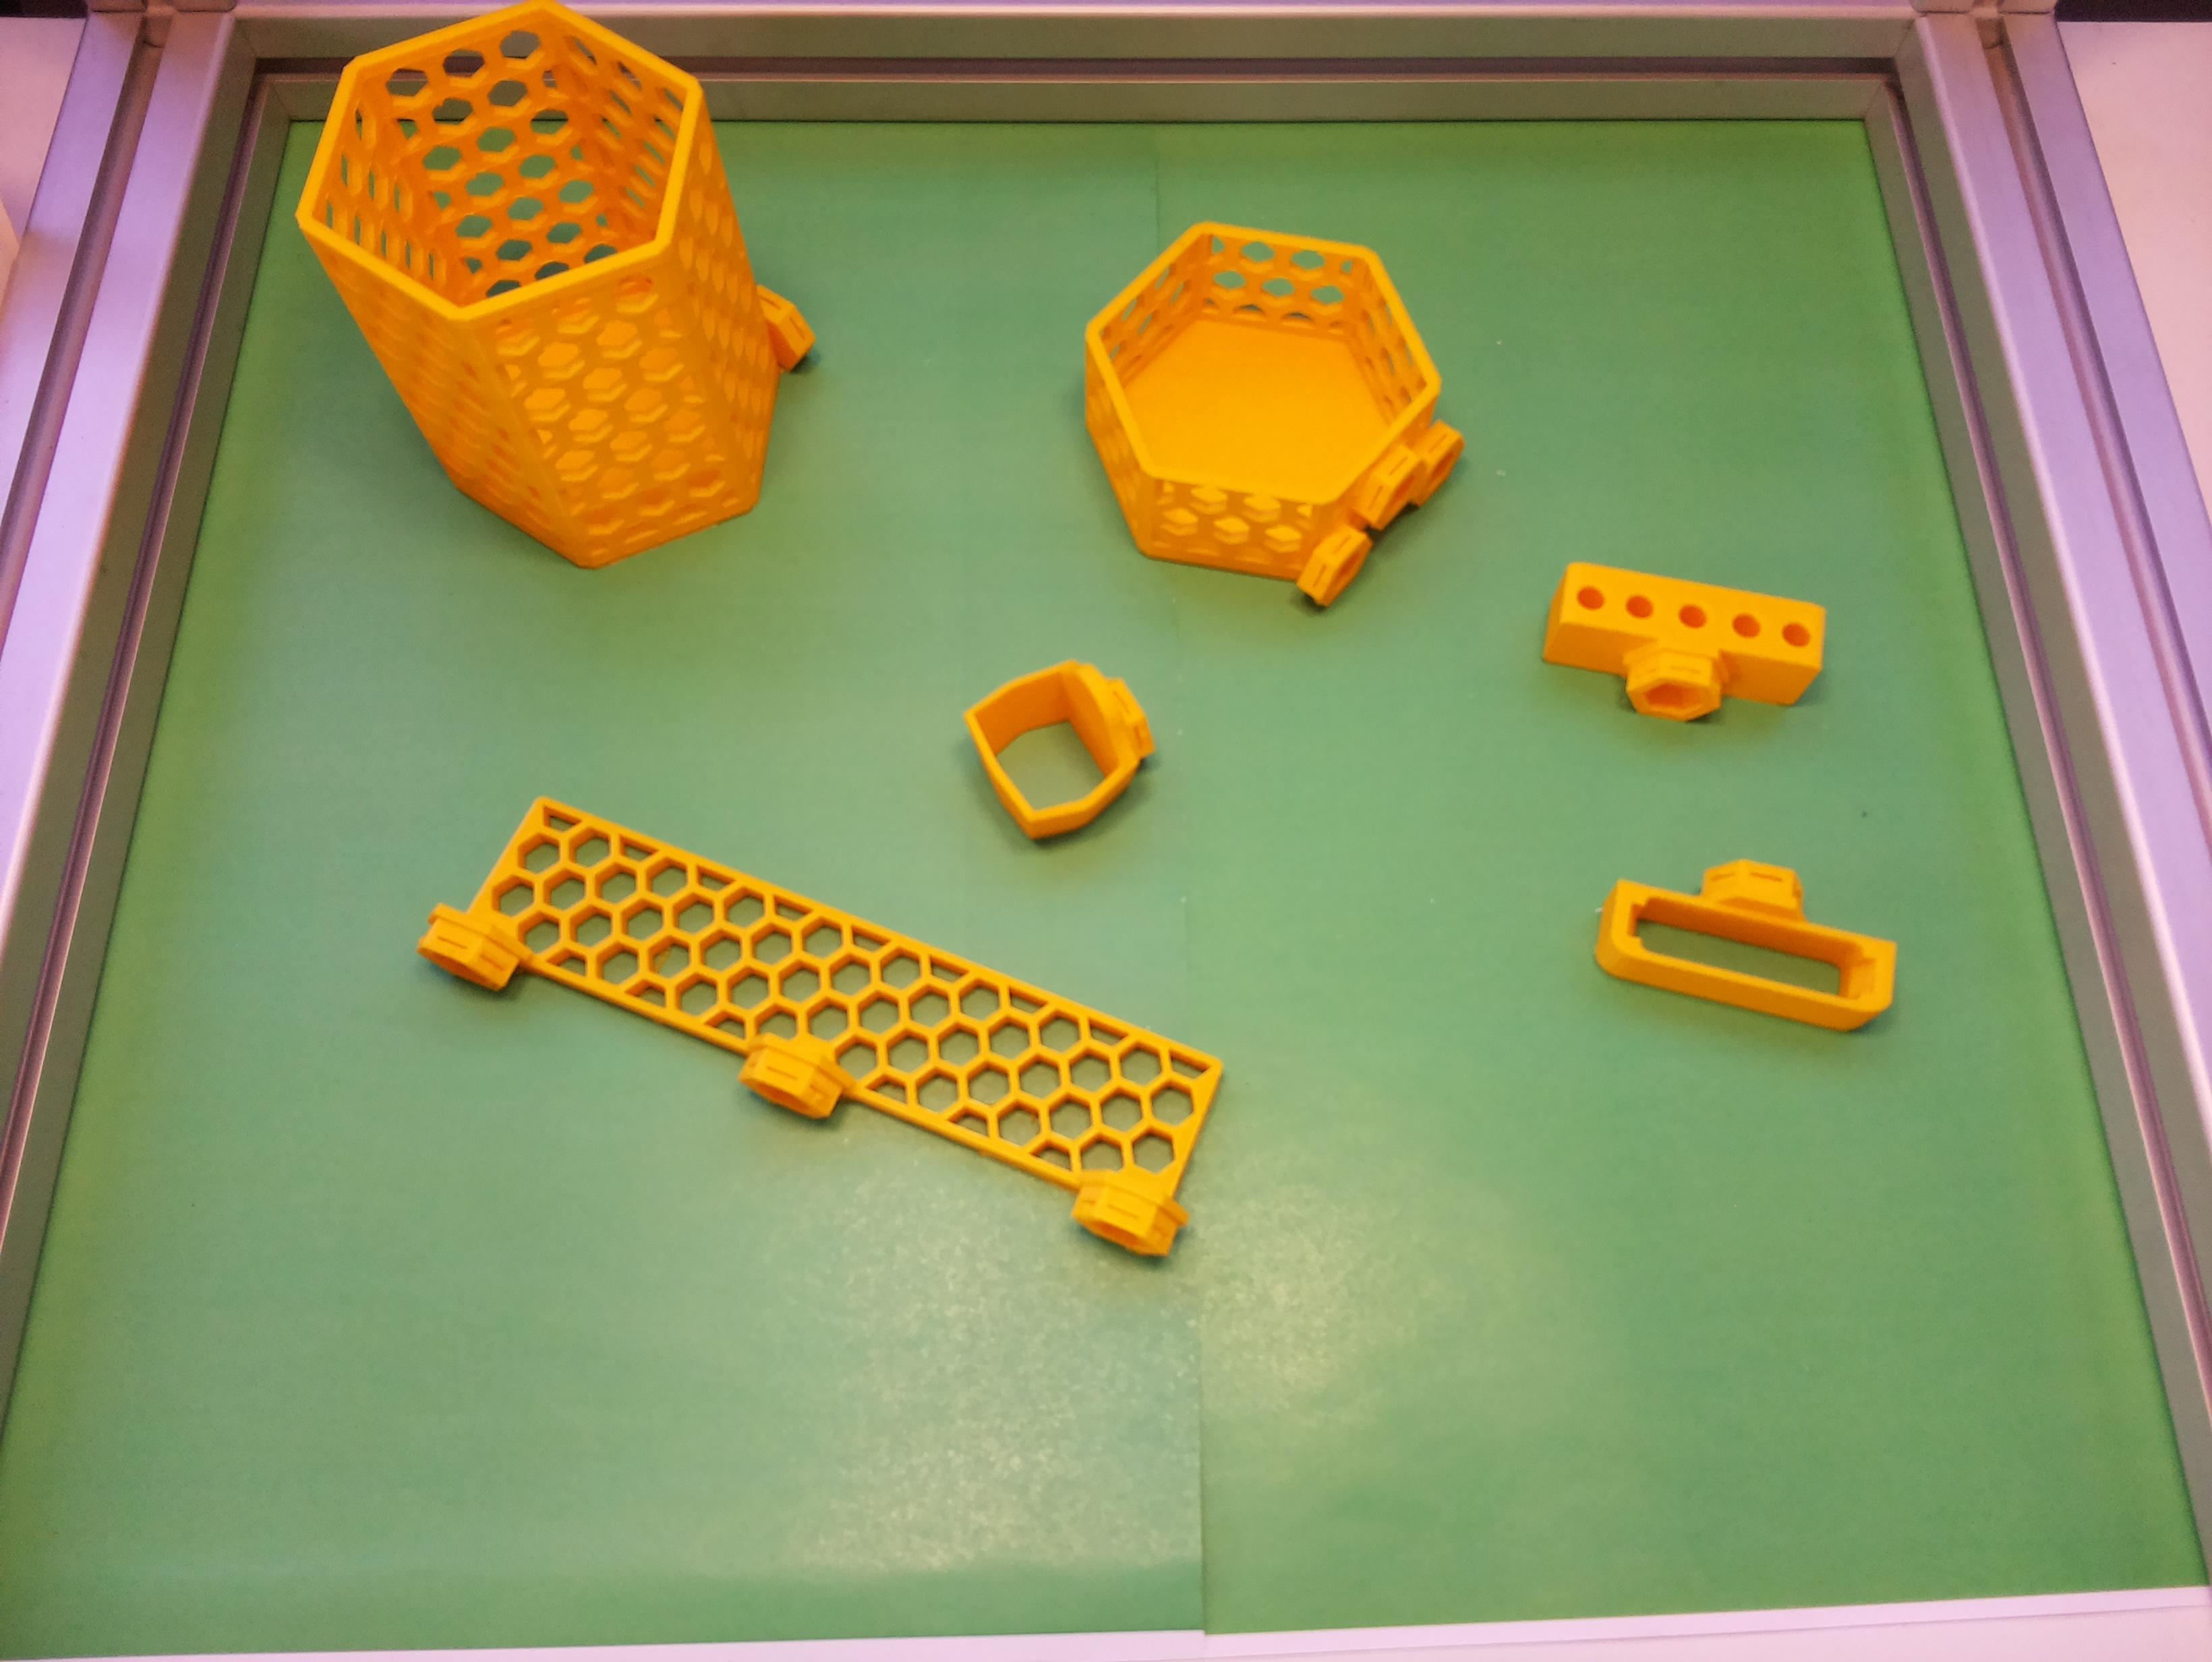bit_holder: (1535, 559, 1831, 744)
bottle_holder: (1020, 159, 1508, 670)
cutter_holder: (1589, 836, 1912, 1040)
scissor_holder: (957, 635, 1177, 852)
tool_holder: (409, 773, 1247, 1266)
